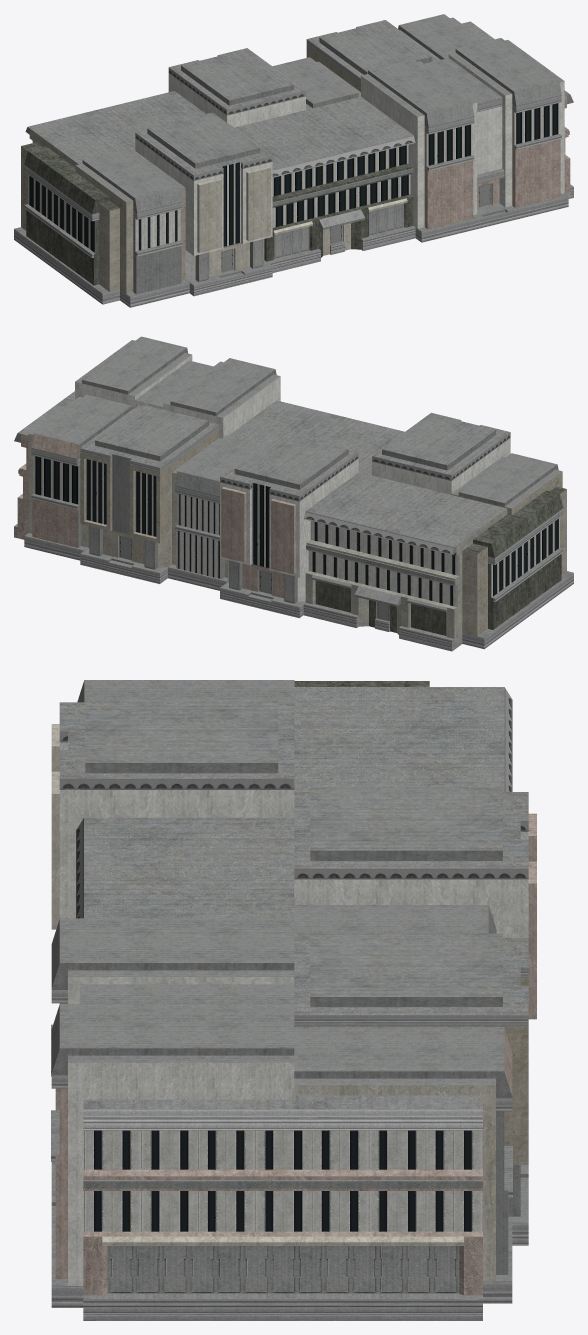
File: thm_corl_imprv_building_block_64x32_s01_l0.fbx
3 views of the same model, one above another, from view 1: azimuth 30°, elevation 25°; view 2: azimuth 150°, elevation 25°; view 3: azimuth 270°, elevation 25° (orthographic). The views are drawn at different scales.
Parts seen in each view (by area): view 1: mesh_node; view 2: mesh_node; view 3: mesh_node.
Boxes of the visible parts, x1=… form: mesh_node: x1=14, y1=14, x2=573, y2=307; mesh_node: x1=14, y1=336, x2=573, y2=651; mesh_node: x1=51, y1=680, x2=536, y2=1320.
Size of the model in its own units: 66.15 by 17.25 by 30.03.
